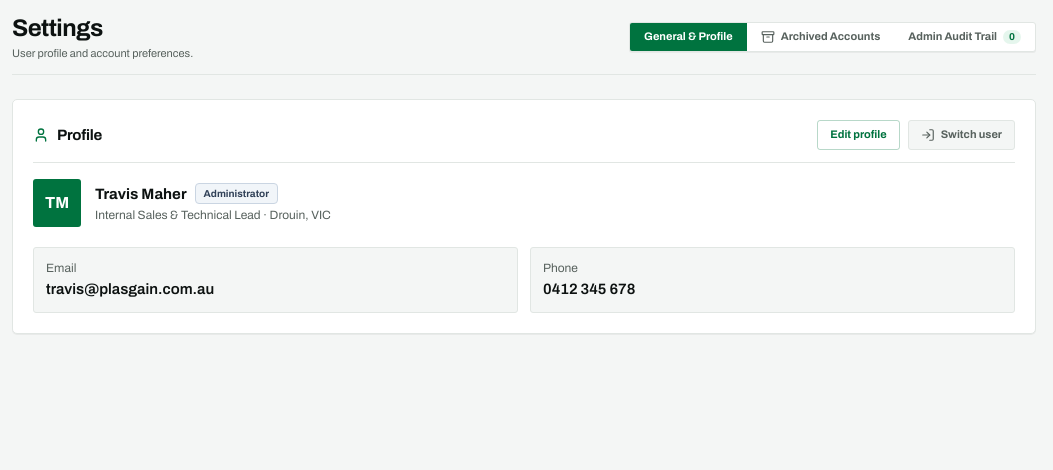
Test: SettingsView Component › allows toggling profile edit form
The width and height of the screenshot is (1053, 470).
What coordinates should you click on to do the following:
click the button "Edit profile"
I would click on:
 (858, 135)
Its box is [817,120,900,150].
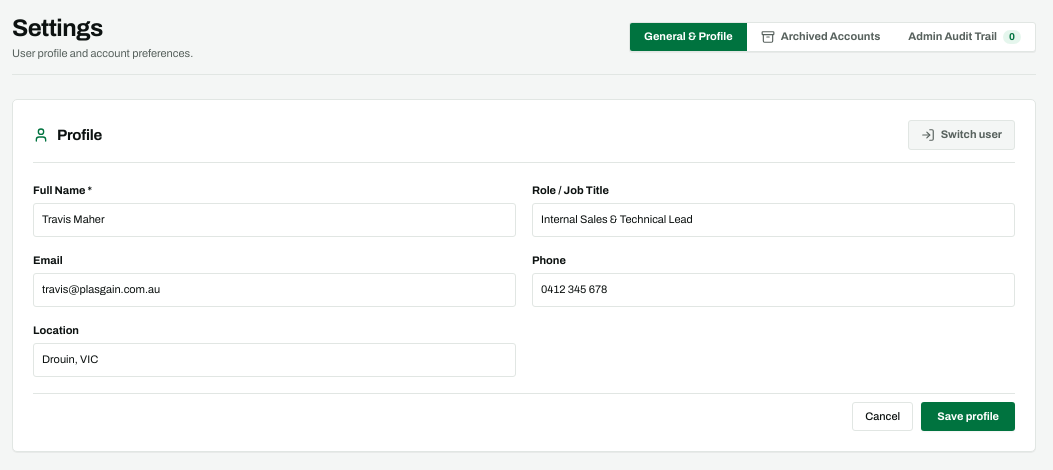
expect the field labelled "Full Name *" is shown: met, box [33,203,516,237]
expect the button "Save profile" is shown: met, box [921,402,1015,431]
